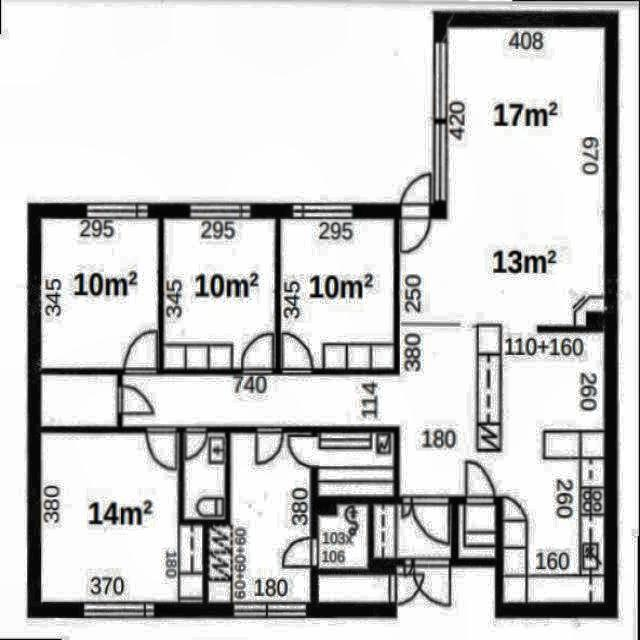room: (123, 26, 605, 602), (41, 433, 180, 602), (41, 218, 159, 368), (208, 433, 311, 603), (281, 219, 395, 368), (164, 219, 276, 369), (318, 433, 394, 497), (374, 505, 452, 559), (41, 374, 117, 426), (184, 433, 226, 520), (318, 505, 368, 569)
